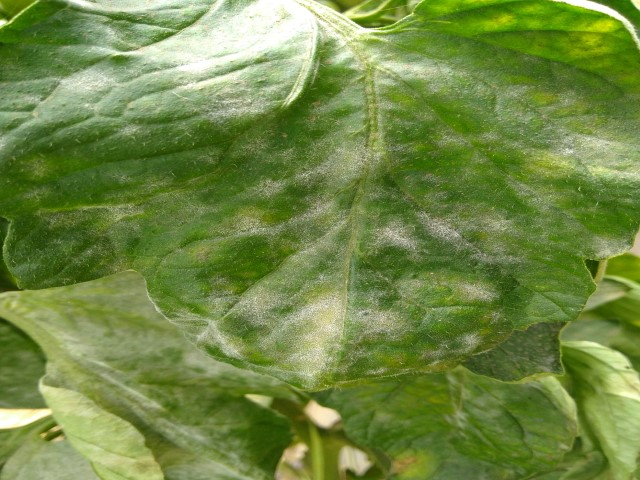blanca: (226, 286, 350, 364), (528, 121, 638, 186), (283, 140, 385, 189), (368, 304, 417, 350), (422, 209, 473, 251), (448, 284, 504, 307), (370, 224, 409, 250)
